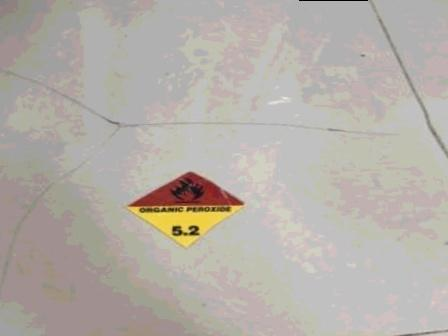organic-peroxide: (121, 168, 250, 245)
